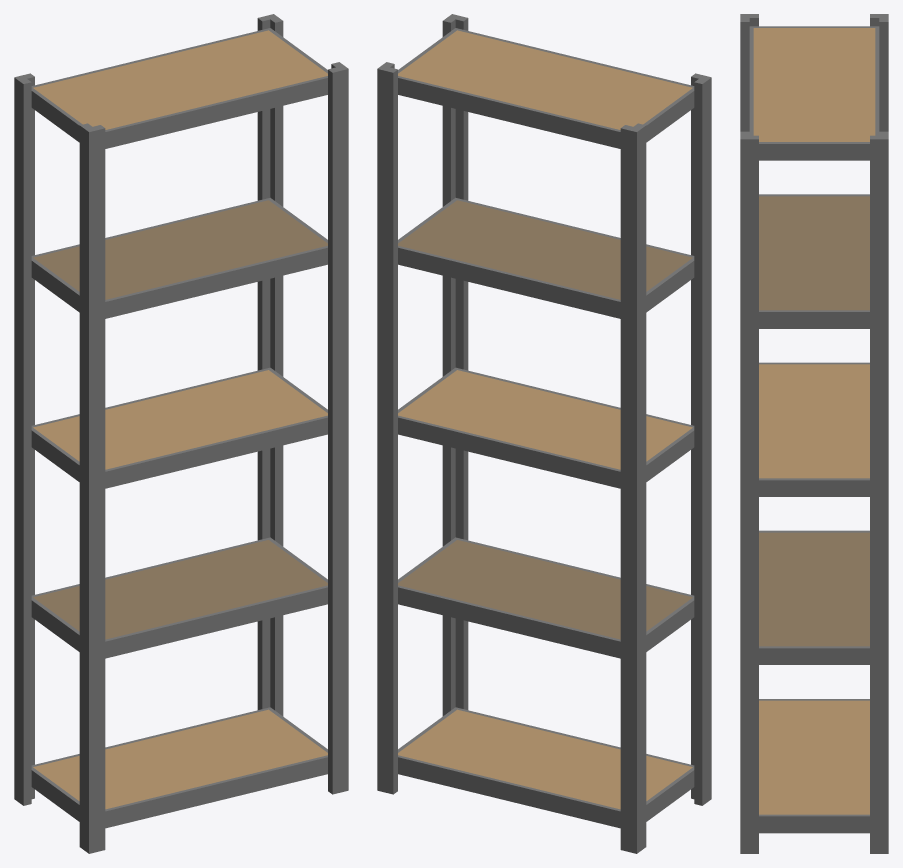
File: Stand2.fbx
3 views of the same model, side by side, from view 1: azimuth 30°, elevation 25°; view 2: azimuth 150°, elevation 25°; view 3: azimuth 270°, elevation 25° (orthographic).
Visible parts, largest first — view 1: isl_Shelf_08_Def.obj; view 2: isl_Shelf_08_Def.obj; view 3: isl_Shelf_08_Def.obj.
Part boxes in pixels (x1=…): isl_Shelf_08_Def.obj: x1=14, y1=14, x2=348, y2=853; isl_Shelf_08_Def.obj: x1=377, y1=14, x2=711, y2=853; isl_Shelf_08_Def.obj: x1=740, y1=14, x2=888, y2=853.
Bounding box in the file's own units: 80 × 213 × 40.
